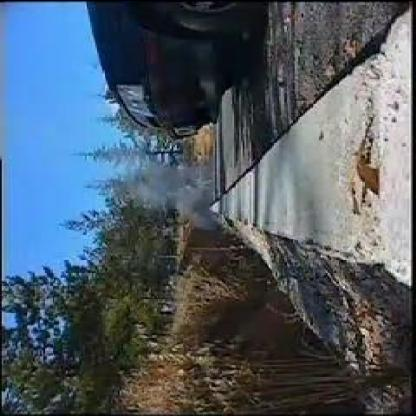-: (142, 175, 218, 231)
